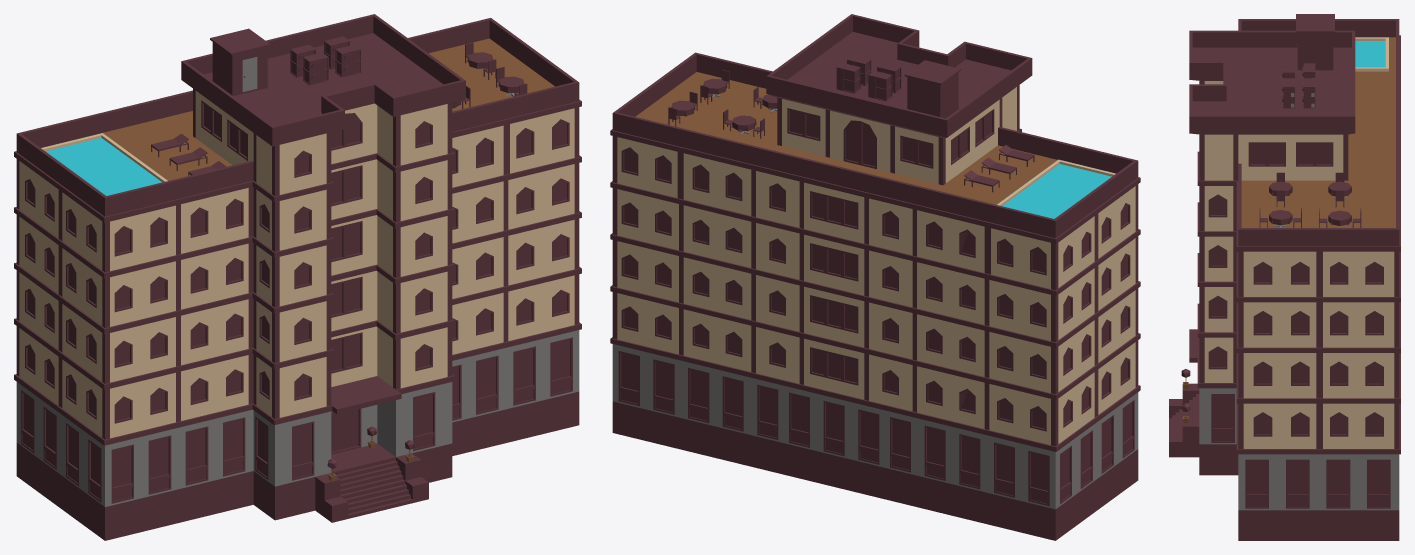
File: building-hotel.fbx
3 views of the same model, side by side, from view 1: azimuth 30°, elevation 25°; view 2: azimuth 150°, elevation 25°; view 3: azimuth 270°, elevation 25° (orthographic). The views are drawn at different scales.
Parts seen in each view (by area): view 1: building-hotel; view 2: building-hotel; view 3: building-hotel.
Boxes of the visible parts, x1,y1,x2,y2 form: building-hotel: (14,14,581,540); building-hotel: (610,14,1140,540); building-hotel: (1169,14,1400,540).
Size of the model in its own units: 29.6 by 25.2 by 13.7.
